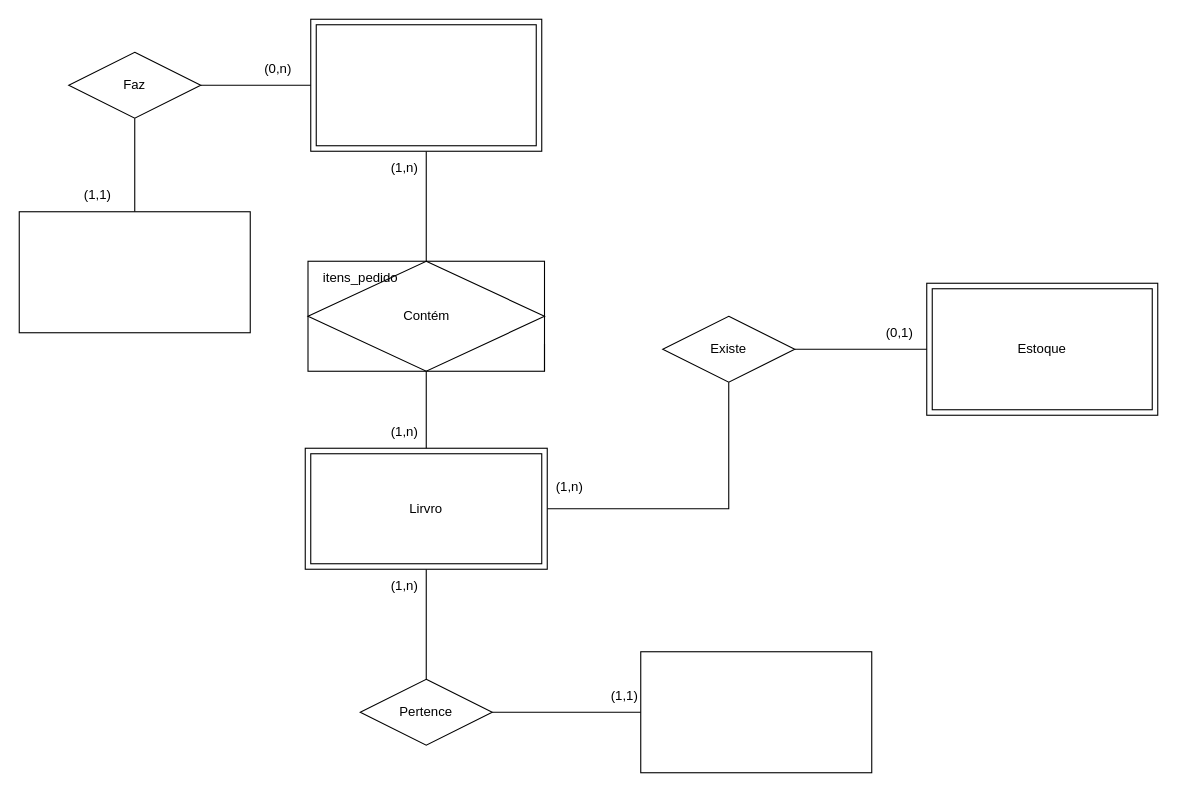
The diagram is 1177 pixels wide and 792 high, and some of its shapes have lost their labels. Each missing label, with the centre of its shape:
Cliente: [134,272]
Editora: [756,712]
Pedido: [426,84]
